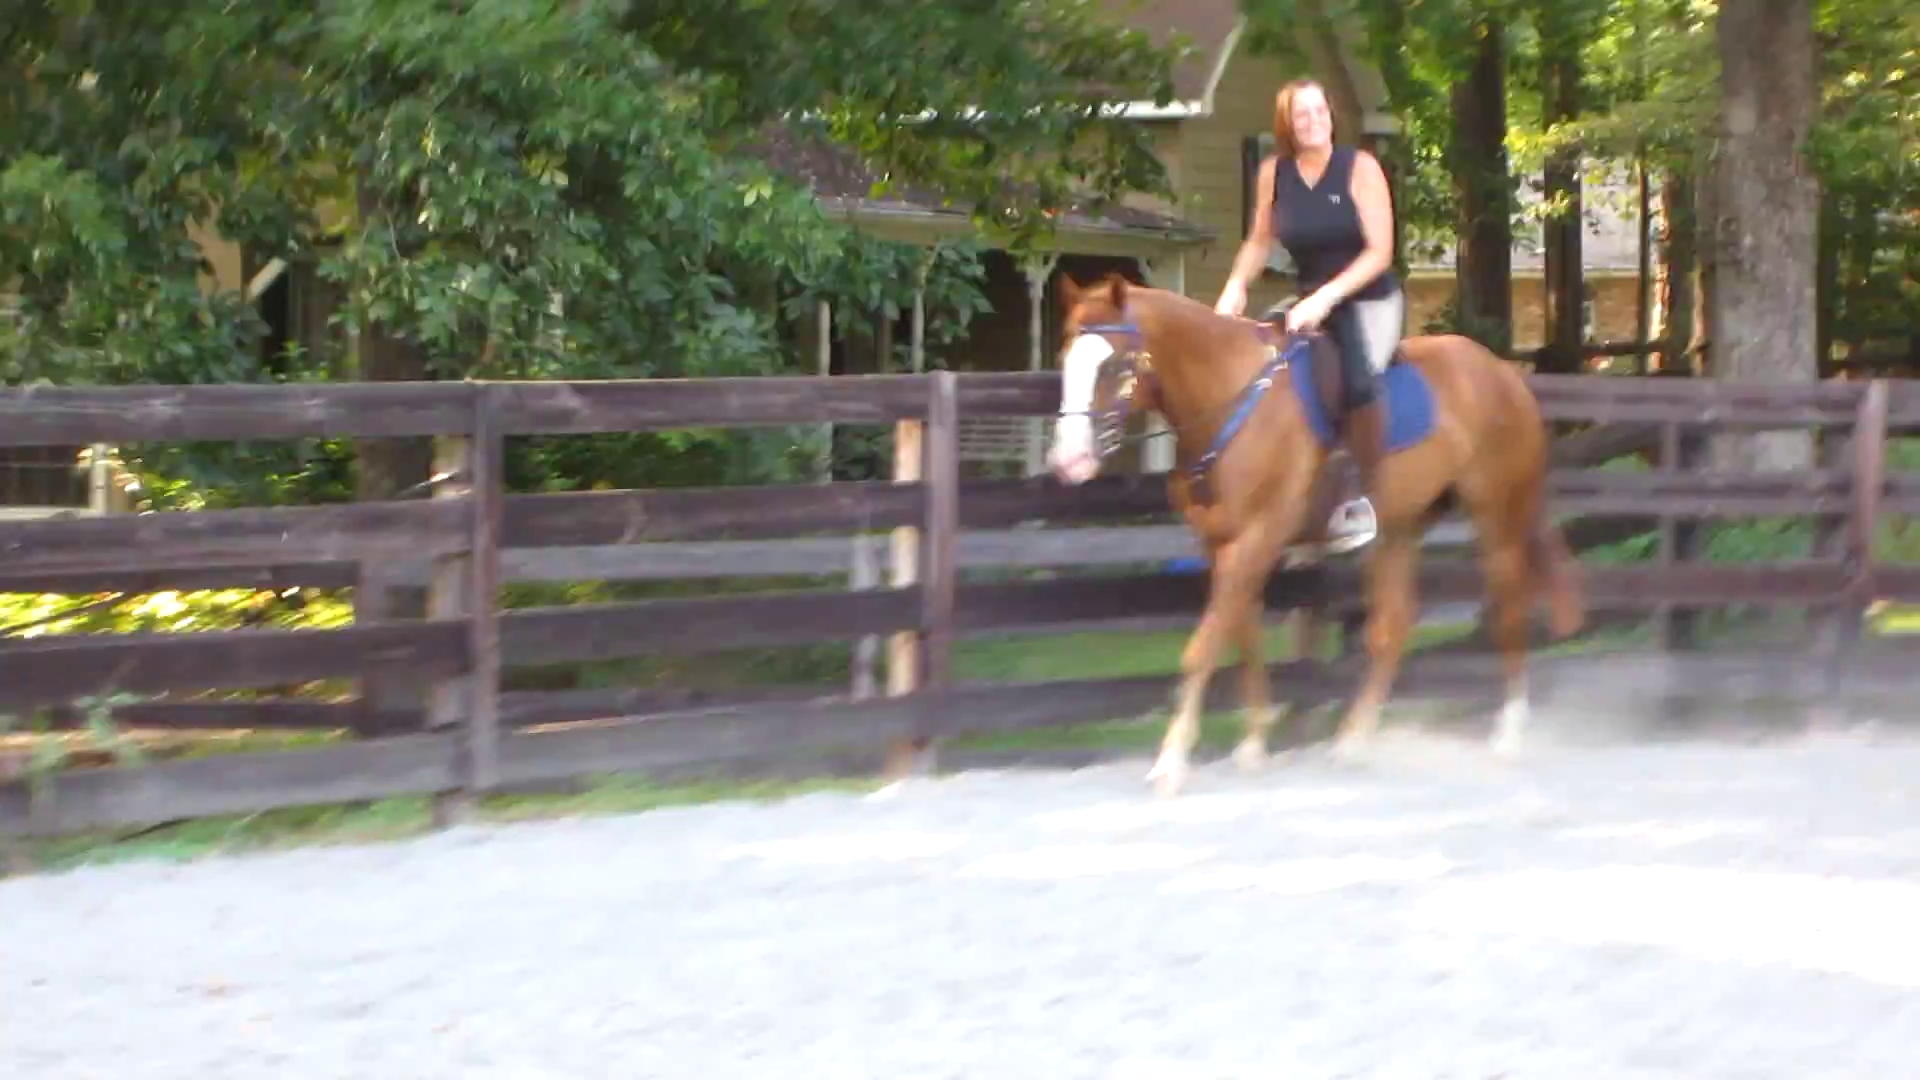person: (1213, 72, 1404, 562)
